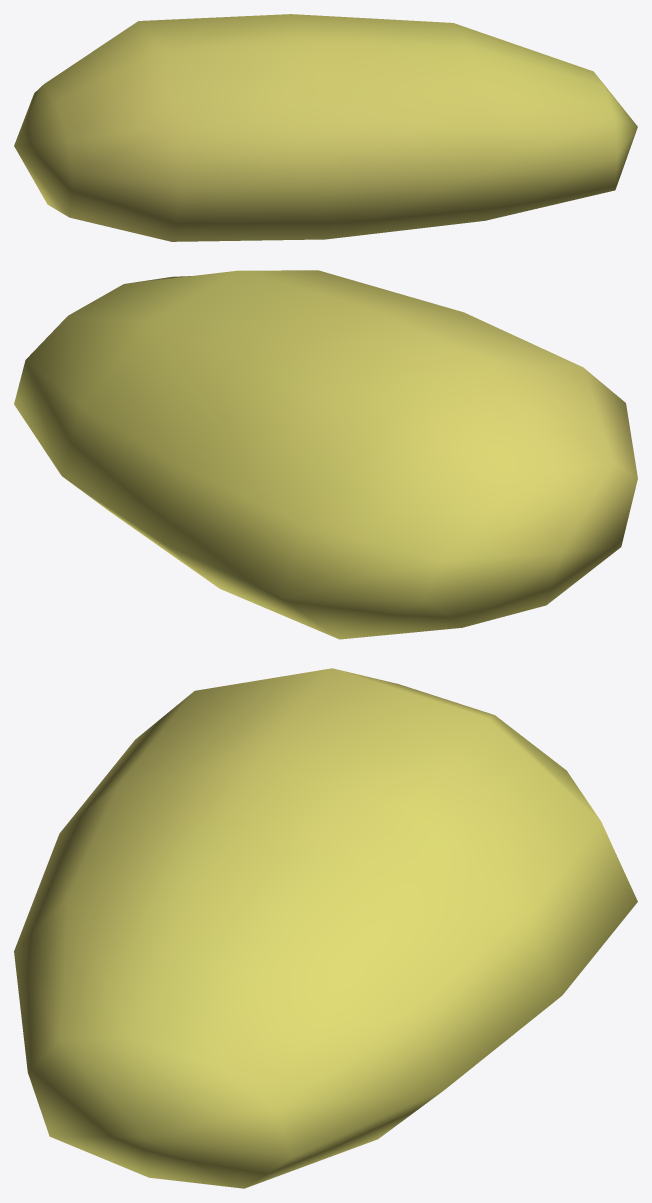
File: PC_Woman_Eyebrow000_L.glb
The picture shows the model from 3 angles, top to bottom: view 1: azimuth 30°, elevation 25°; view 2: azimuth 150°, elevation 25°; view 3: azimuth 270°, elevation 25°; orthographic projection. The views are drawn at different scales.
Parts seen in each view (by area): view 1: PC_Woman_Eyebrow000_L_mesh; view 2: PC_Woman_Eyebrow000_L_mesh; view 3: PC_Woman_Eyebrow000_L_mesh.
Boxes of the visible parts, <box> form: PC_Woman_Eyebrow000_L_mesh: <box>14,14,637,241</box>; PC_Woman_Eyebrow000_L_mesh: <box>14,270,637,639</box>; PC_Woman_Eyebrow000_L_mesh: <box>14,668,637,1188</box>.
Size of the model in its own units: 0.11 by 0.0383 by 0.0806.
1 material, 1 textured.
